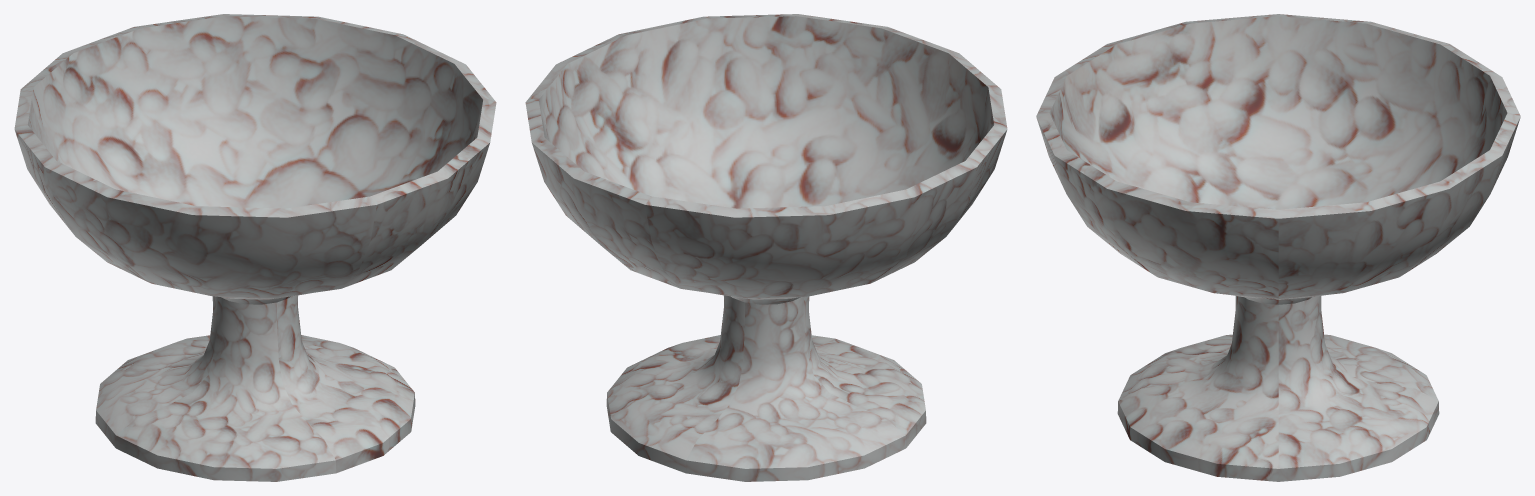
Rendered from reddd.fbx.
The picture shows the model from 3 angles, left to right: view 1: azimuth 30°, elevation 25°; view 2: azimuth 150°, elevation 25°; view 3: azimuth 270°, elevation 25°; orthographic projection.
Parts seen in each view (by area): view 1: b; view 2: b; view 3: b.
Boxes of the visible parts, x1=… form: b: x1=14, y1=14, x2=496, y2=481; b: x1=525, y1=14, x2=1007, y2=481; b: x1=1036, y1=14, x2=1520, y2=481.
Size of the model in its own units: 7.11 by 7.11 by 4.88.
